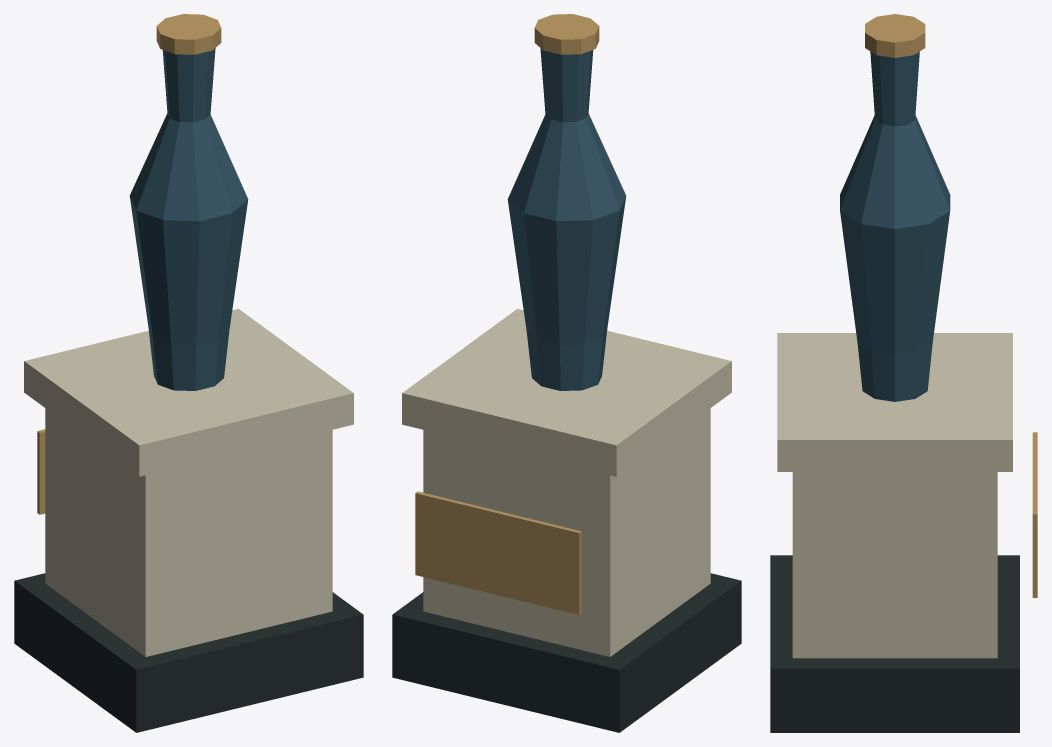
The model's file is LP_AsianHeritage_CornerFeature.fbx.
The picture shows the model from 3 angles, left to right: view 1: azimuth 30°, elevation 25°; view 2: azimuth 150°, elevation 25°; view 3: azimuth 270°, elevation 25°; orthographic projection. The views are drawn at different scales.
Visible parts, largest first — view 1: M_Central_Limestone, M_Museum_DeepBlue, Charcoal, AgedBrass; view 2: M_Central_Limestone, M_Museum_DeepBlue, Charcoal, AgedBrass; view 3: M_Central_Limestone, M_Museum_DeepBlue, Charcoal, AgedBrass.
Part boxes in pixels (<box>): M_Central_Limestone: <box>24,309,353,656</box>; M_Museum_DeepBlue: <box>129,48,248,390</box>; Charcoal: <box>14,573,363,732</box>; AgedBrass: <box>37,14,221,514</box>; M_Central_Limestone: <box>402,309,731,656</box>; M_Museum_DeepBlue: <box>507,48,626,390</box>; Charcoal: <box>392,573,741,732</box>; AgedBrass: <box>415,14,599,614</box>; M_Central_Limestone: <box>777,333,1012,658</box>; M_Museum_DeepBlue: <box>840,51,950,401</box>; Charcoal: <box>770,555,1019,732</box>; AgedBrass: <box>865,14,1037,597</box>.
Size of the model in its own units: 75 by 200 by 74.77.
